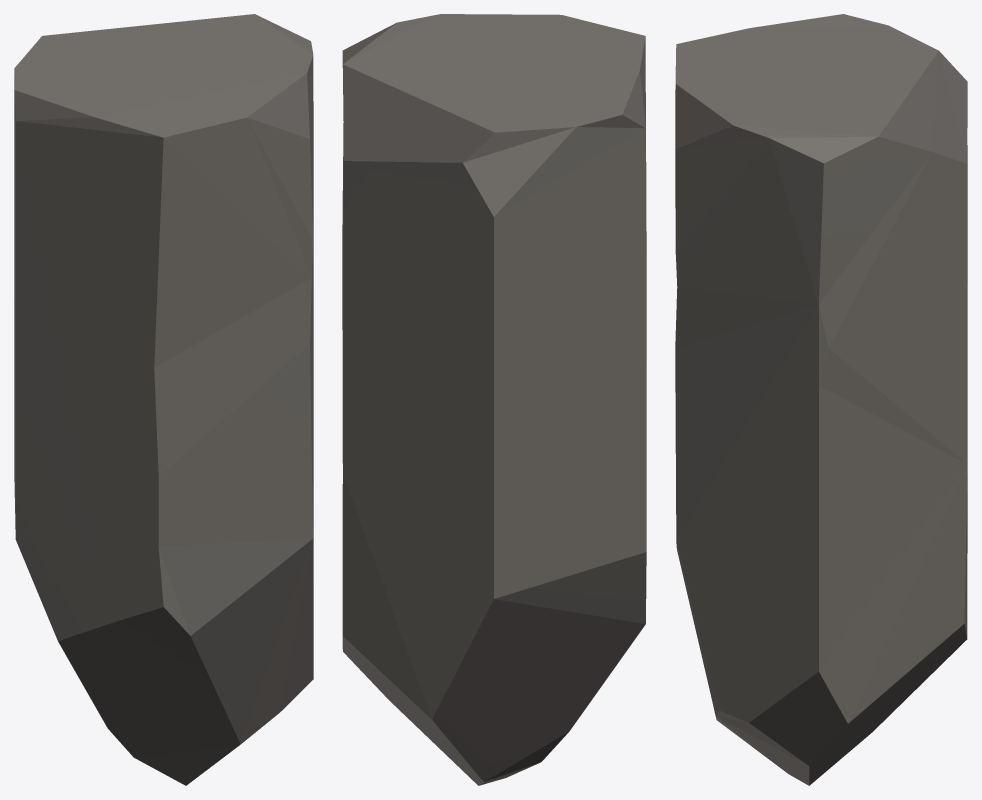
The model's file is SM_Env_Rock_Pillar_05.glb.
The picture shows the model from 3 angles, left to right: view 1: azimuth 30°, elevation 25°; view 2: azimuth 150°, elevation 25°; view 3: azimuth 270°, elevation 25°; orthographic projection. The views are drawn at different scales.
Parts seen in each view (by area): view 1: SM_Env_Rock_Pillar_05; view 2: SM_Env_Rock_Pillar_05; view 3: SM_Env_Rock_Pillar_05.
Boxes of the visible parts, x1,y1,x2,y2 form: SM_Env_Rock_Pillar_05: (14,14,313,785); SM_Env_Rock_Pillar_05: (342,14,646,785); SM_Env_Rock_Pillar_05: (675,14,967,785).
Bounding box in the file's own units: 0.00719 × 0.0165 × 0.00628.
Materials: 1 (1 with a texture image).
